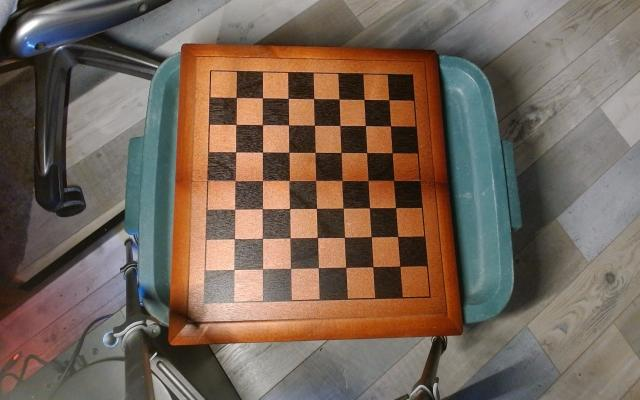corner: (406, 66, 420, 82), (199, 294, 212, 310), (206, 67, 218, 80), (422, 290, 435, 301)
